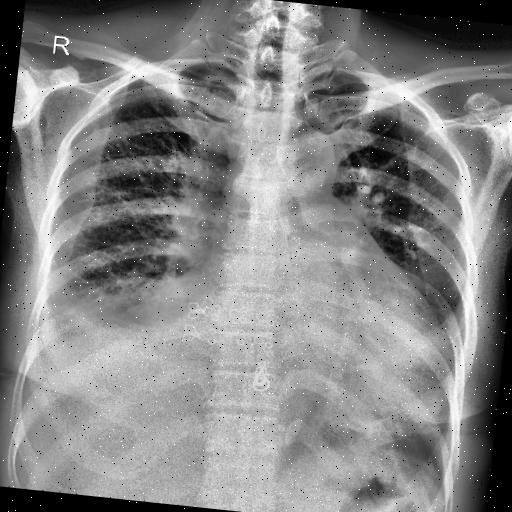0- Aortic enlargement: (272, 126, 347, 202), (274, 124, 340, 190), (274, 127, 338, 186)
10- Pleural effusion: (22, 296, 136, 357), (32, 280, 58, 332), (36, 297, 74, 327)
11- Pleural thickening: (32, 280, 58, 332), (36, 297, 74, 327)
3- Cardiomegaly: (140, 259, 460, 452), (184, 253, 468, 396), (155, 257, 451, 362)
7- Lung Opacity: (72, 236, 202, 336)
8- Nodule-Mass: (373, 192, 386, 204), (361, 184, 372, 194)
